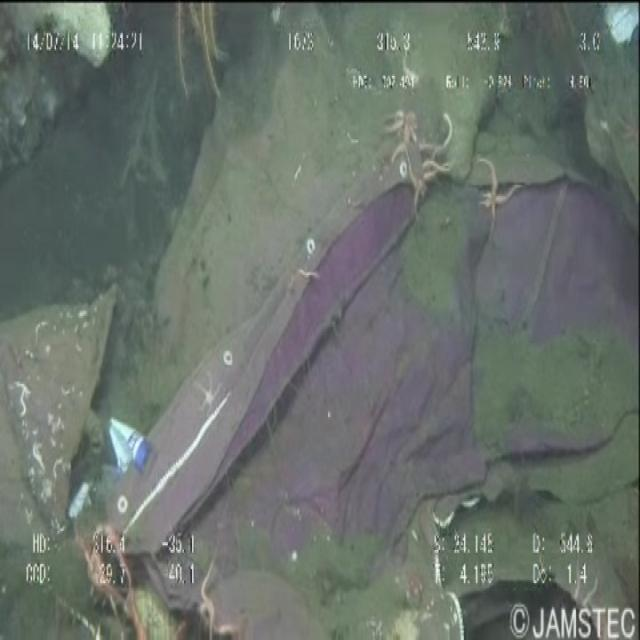Accessories: (103, 153, 636, 640)
Litter: (89, 391, 161, 490)
